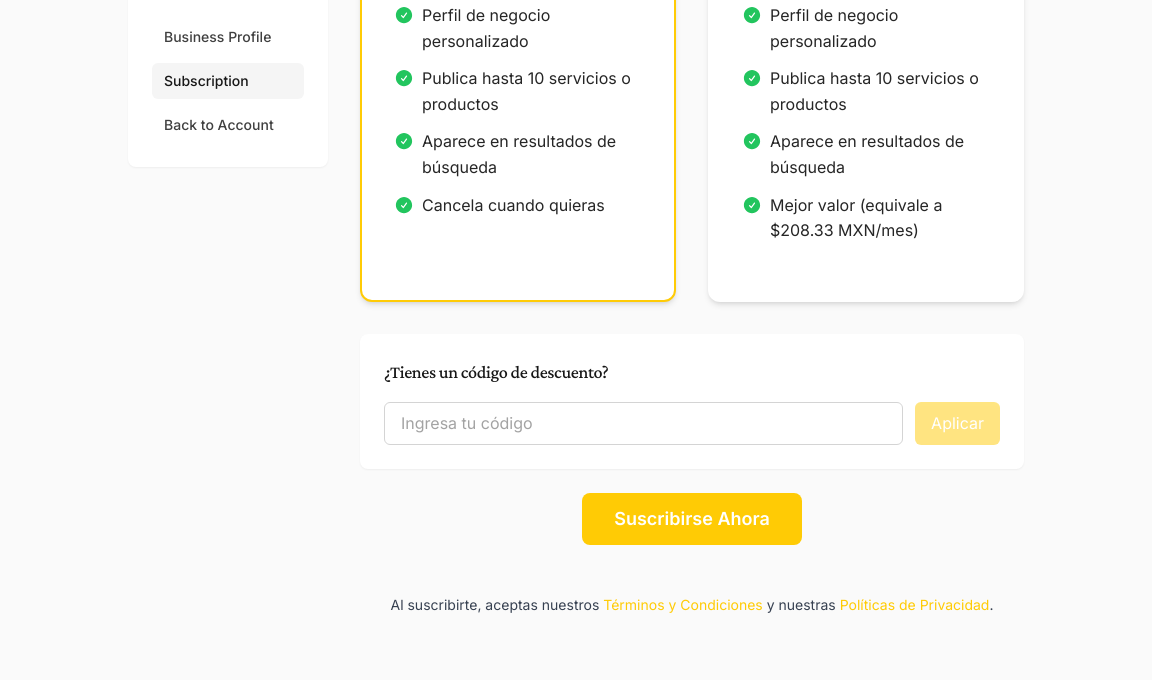
Coupon Functionality › handles invalid coupon code
(page scrolled)
// Enter invalid coupon code
In the field with placeholder "Ingresa tu código": (644,424) [384,402,903,445], type "INVALID"
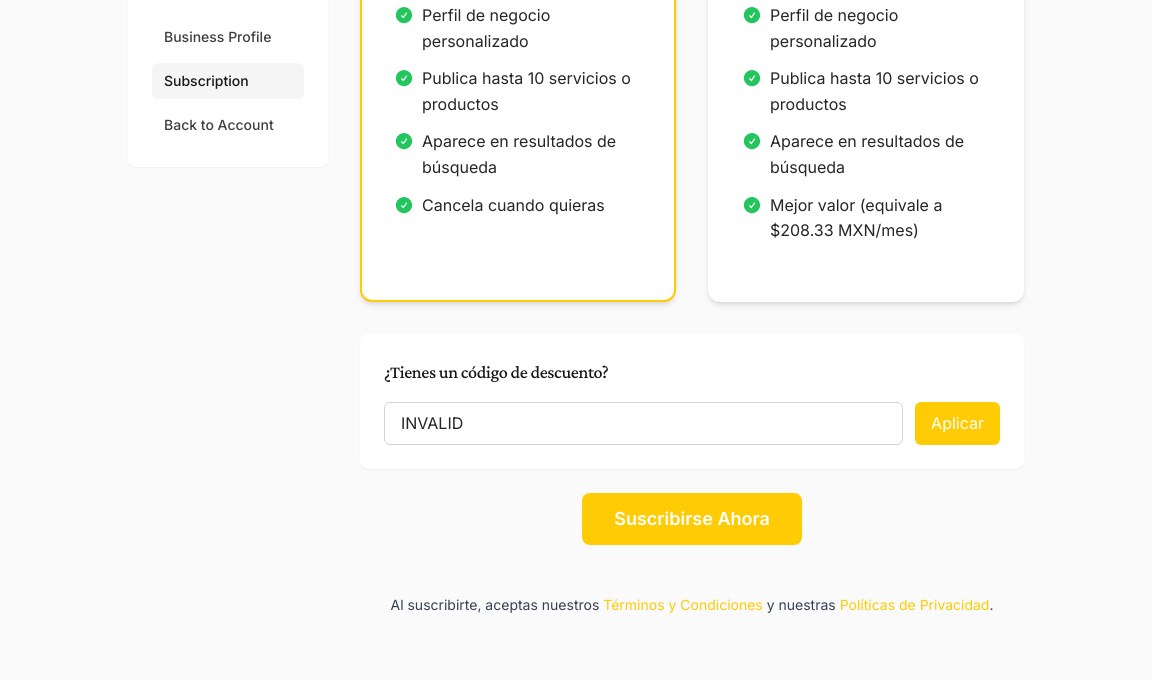
Click the button "Aplicar": (958,424) [915,402,1000,445]
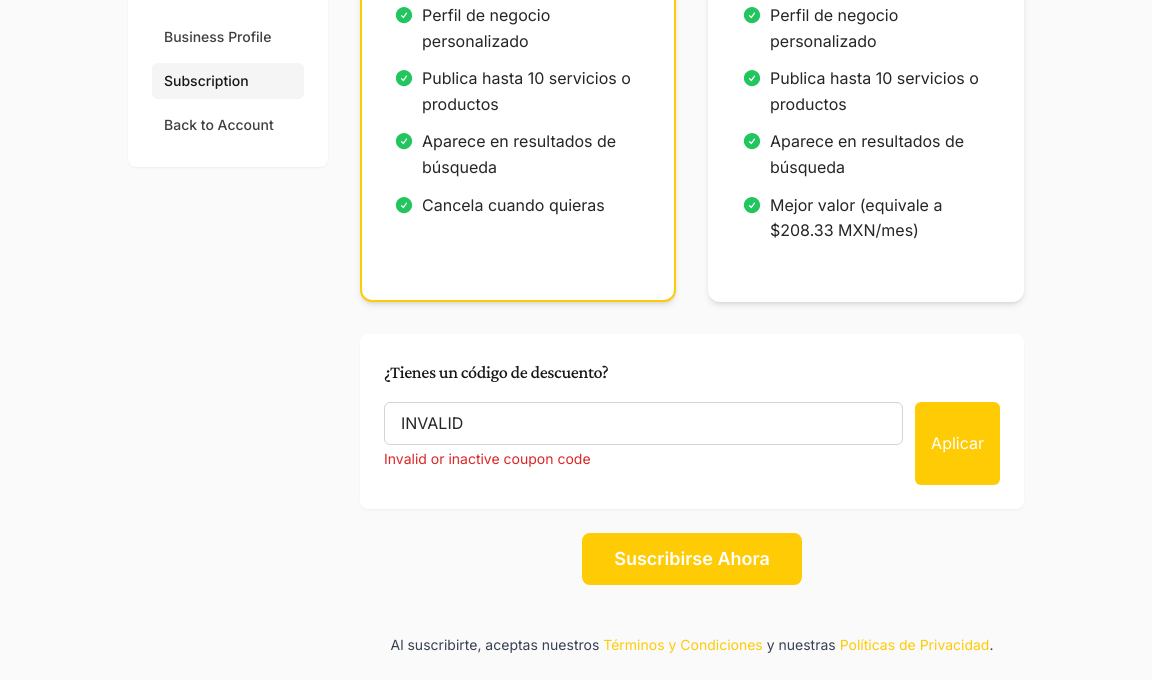
Expected: the text "Invalid or inactive coupon code" is shown, [384,450,590,467]
